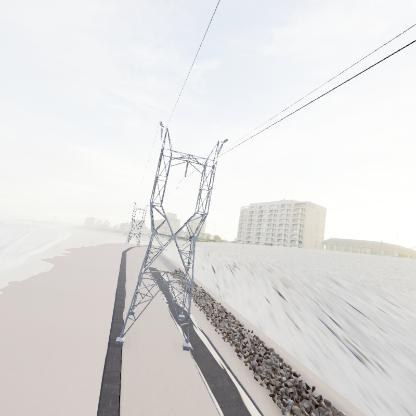tower: (114, 119, 233, 355), (125, 199, 150, 252)
